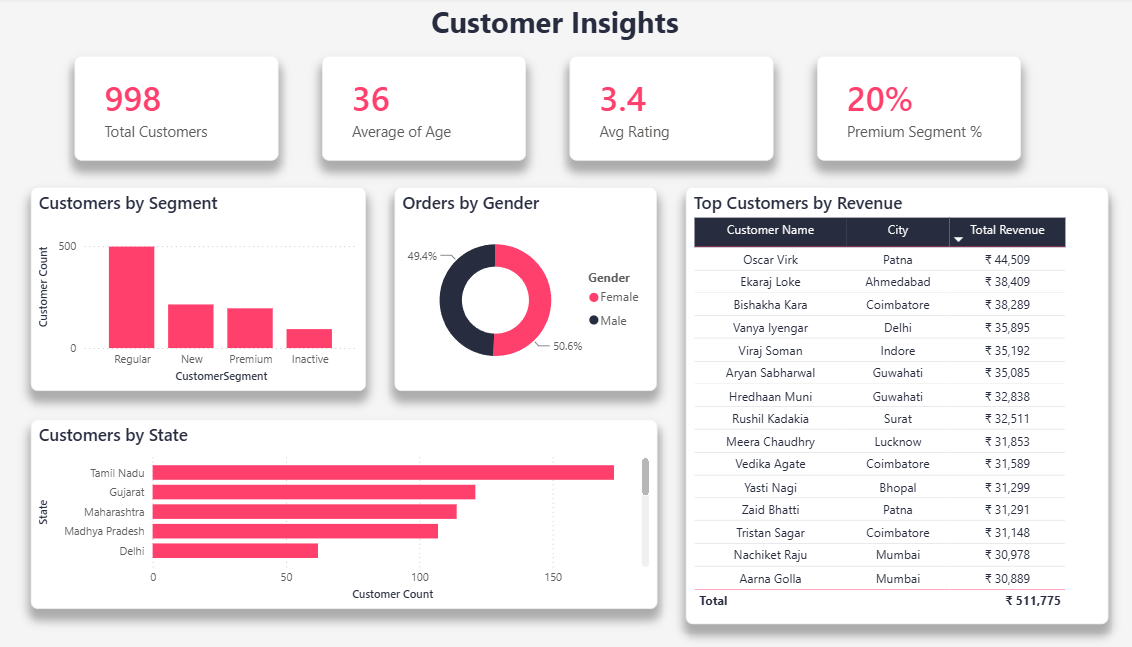

What the dashboard file says about the page in this screenshot:
{"tool":"powerbi","page":{"name":"Customers","canvas":[1280,720],"ordinal":1},"visuals":[{"type":"textbox","box":[0,0,1280,64],"z":0},{"type":"cardVisual","fields":{"Data":["M-Table.Total Customers"]},"box":[112,64,224,115],"z":1000},{"type":"cardVisual","fields":{"Data":["Avg(Customers.Age)"]},"box":[384,64,224,115],"z":2000},{"type":"cardVisual","fields":{"Data":["M-Table.Avg Rating"]},"box":[656,64,224,115],"z":3000},{"type":"cardVisual","fields":{"Data":["M-Table.Premium Segment %"]},"box":[928,64,224,115],"z":4000},{"type":"clusteredColumnChart","title":"Customers by Segment","fields":{"Category":["Customers.CustomerSegment"],"Y":["M-Table.Customer Count"]},"box":[64,208,368,224],"z":5000},{"type":"donutChart","title":"Orders by Gender","fields":{"Category":["Customers.Gender"],"Y":["M-Table.Total Orders"]},"box":[464,208,288,224],"z":6000},{"type":"tableEx","title":"Top Customers by Revenue","fields":{"Values":["Customers.CustomerName","Customers.City","M-Table.Total Revenue"]},"box":[784,208,464,480],"z":7000},{"type":"clusteredBarChart","title":"Customers by State","fields":{"Category":["Customers.State"],"Y":["M-Table.Customer Count"]},"box":[64,464,688,208],"z":8000}]}

Visuals, with their boxes in screenshot pixels (x1, y1, x2, y2), scaled from the page's 1280x720 canvas onto the 1132x647 screenshot:
textbox: rect(0, 0, 1131, 58)
cardVisual - M-Table.Total Customers: rect(99, 58, 297, 161)
cardVisual - Avg(Customers.Age): rect(340, 58, 538, 161)
cardVisual - M-Table.Avg Rating: rect(580, 58, 778, 161)
cardVisual - M-Table.Premium Segment %: rect(821, 58, 1019, 161)
"Customers by Segment" clusteredColumnChart: rect(57, 187, 382, 388)
"Orders by Gender" donutChart: rect(410, 187, 665, 388)
"Top Customers by Revenue" tableEx: rect(693, 187, 1104, 618)
"Customers by State" clusteredBarChart: rect(57, 417, 665, 604)
